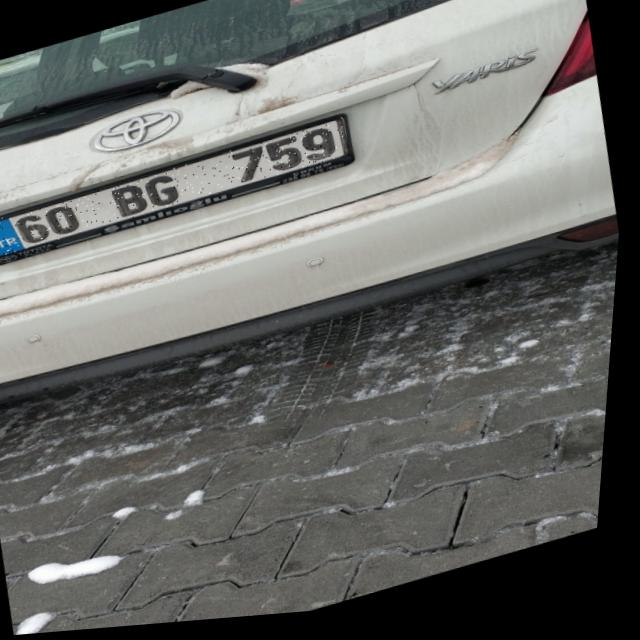license_plate: (0, 123, 351, 260)
